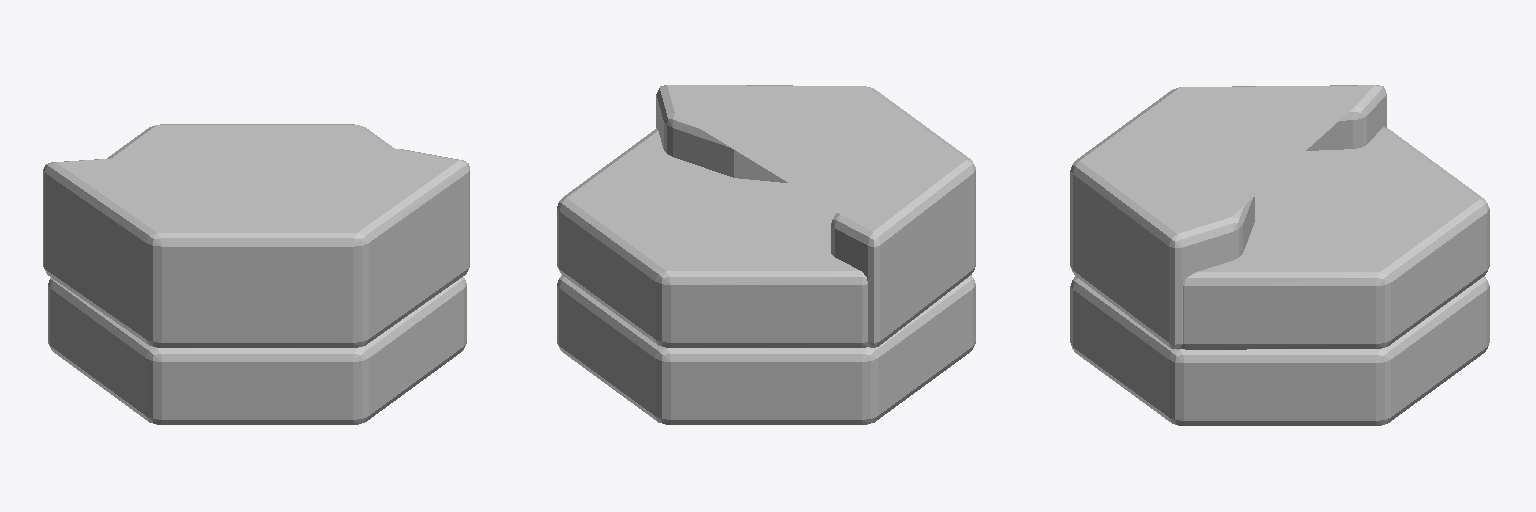
Rendered from ground_water_grass2.obj.
3 renders of one model, left to right at view 1: azimuth 30°, elevation 25°; view 2: azimuth 150°, elevation 25°; view 3: azimuth 270°, elevation 25°, orthographic.
Visible parts, largest first — view 1: ground_water_grass2; view 2: ground_water_grass2; view 3: ground_water_grass2.
Part boxes in pixels (x1,y1,x2,y2): ground_water_grass2: (43, 124, 469, 424); ground_water_grass2: (557, 85, 975, 424); ground_water_grass2: (1070, 85, 1489, 425).
Size of the model in its own units: 7.04 by 4 by 7.9.